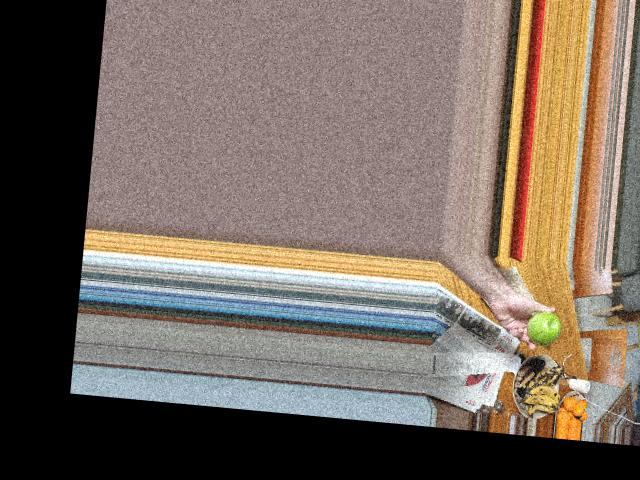apple: (522, 305, 566, 348)
